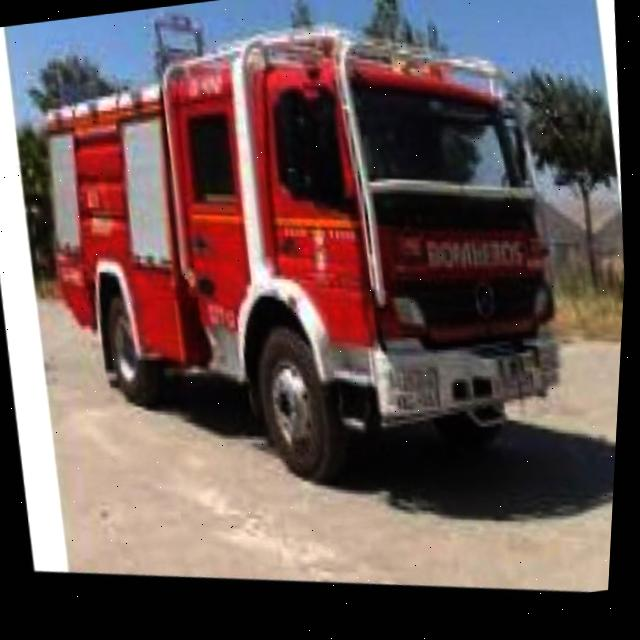emergency: (21, 0, 590, 518)
